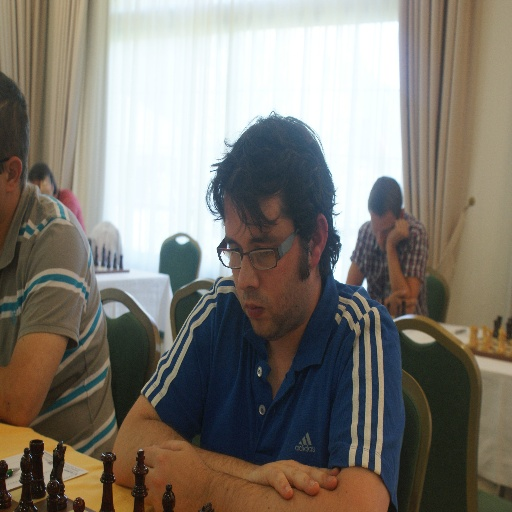hand: (133, 439, 203, 511), (247, 456, 339, 502), (384, 288, 420, 317), (385, 217, 410, 249)
